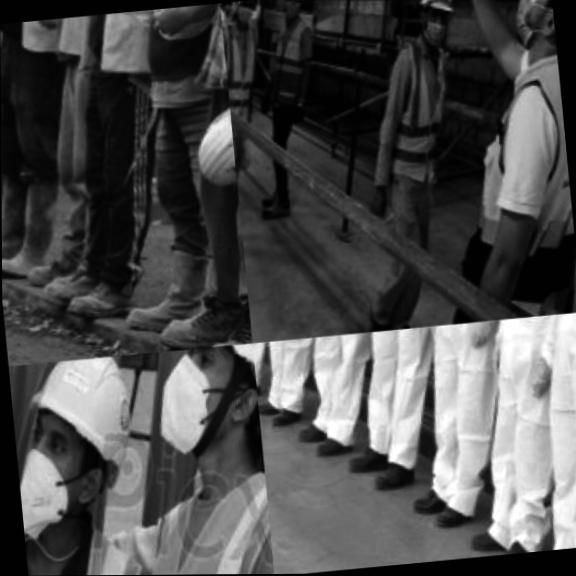safety_vest: (436, 44, 576, 322), (403, 315, 564, 494), (465, 312, 576, 532), (82, 451, 272, 575), (340, 321, 502, 454), (513, 312, 576, 552), (378, 37, 472, 189), (291, 328, 416, 425), (75, 5, 208, 92), (22, 503, 147, 576), (254, 333, 364, 399), (262, 19, 324, 119), (223, 19, 276, 126), (0, 13, 109, 64), (54, 13, 118, 60), (221, 3, 233, 60)
